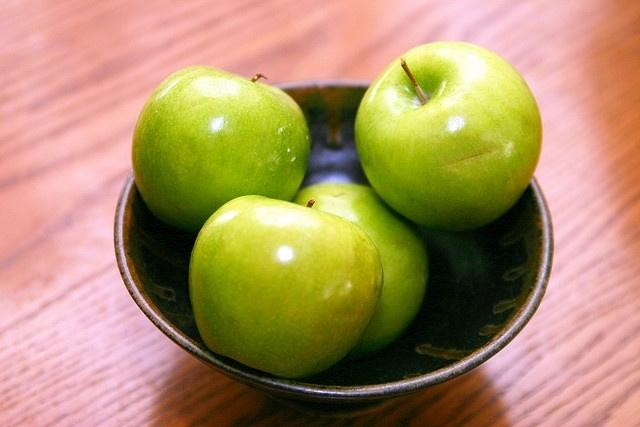apples: (358, 45, 565, 243), (184, 221, 394, 381), (303, 163, 437, 353), (129, 52, 295, 198)
